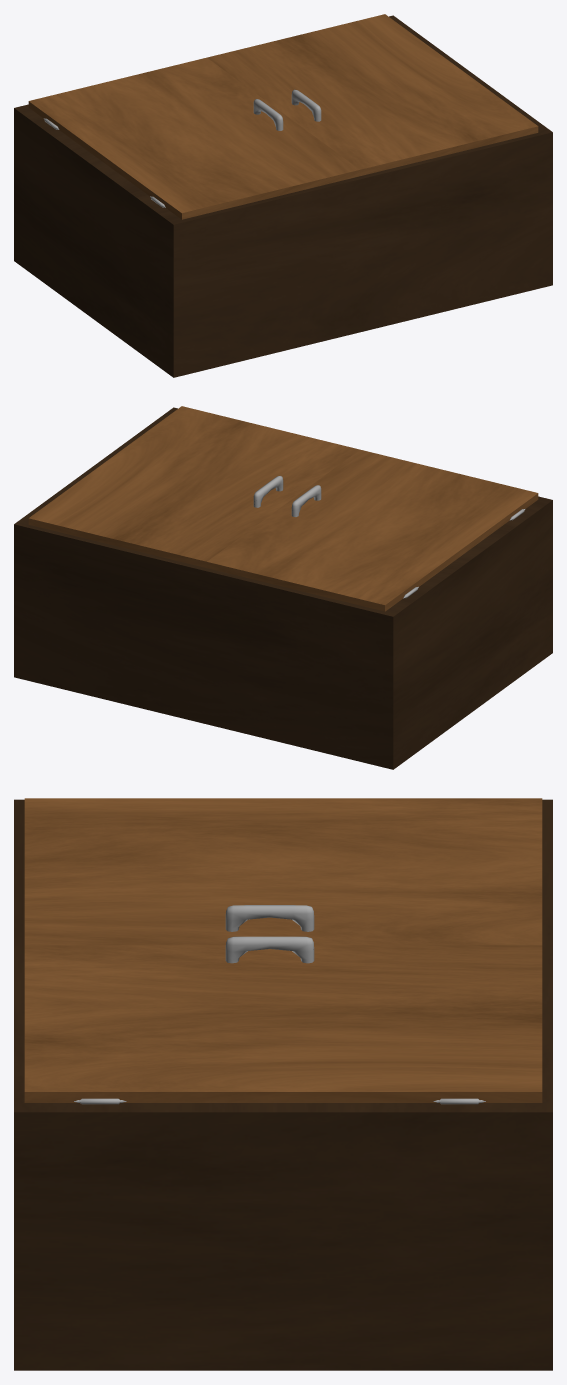
File: ArmarioDeCocinaPequeño.fbx
3 renders of one model, top to bottom at view 1: azimuth 30°, elevation 25°; view 2: azimuth 150°, elevation 25°; view 3: azimuth 270°, elevation 25°, orthographic. The views are drawn at different scales.
Parts seen in each view (by area): view 1: Cuerpo, Puerta01.001, Puerta02.001; view 2: Cuerpo, Puerta01.001, Puerta02.001; view 3: Cuerpo, Puerta02.001, Puerta01.001.
Part boxes in pixels (<box>): Cuerpo: <box>14,15,552,377</box>; Puerta01.001: <box>28,57,359,219</box>; Puerta02.001: <box>207,14,538,175</box>; Cuerpo: <box>14,407,552,769</box>; Puerta01.001: <box>207,449,538,611</box>; Puerta02.001: <box>28,406,359,567</box>; Cuerpo: <box>14,799,552,1370</box>; Puerta02.001: <box>24,936,542,1104</box>; Puerta01.001: <box>24,798,542,945</box>.
Size of the model in its own units: 103 by 45.28 by 75.42.
